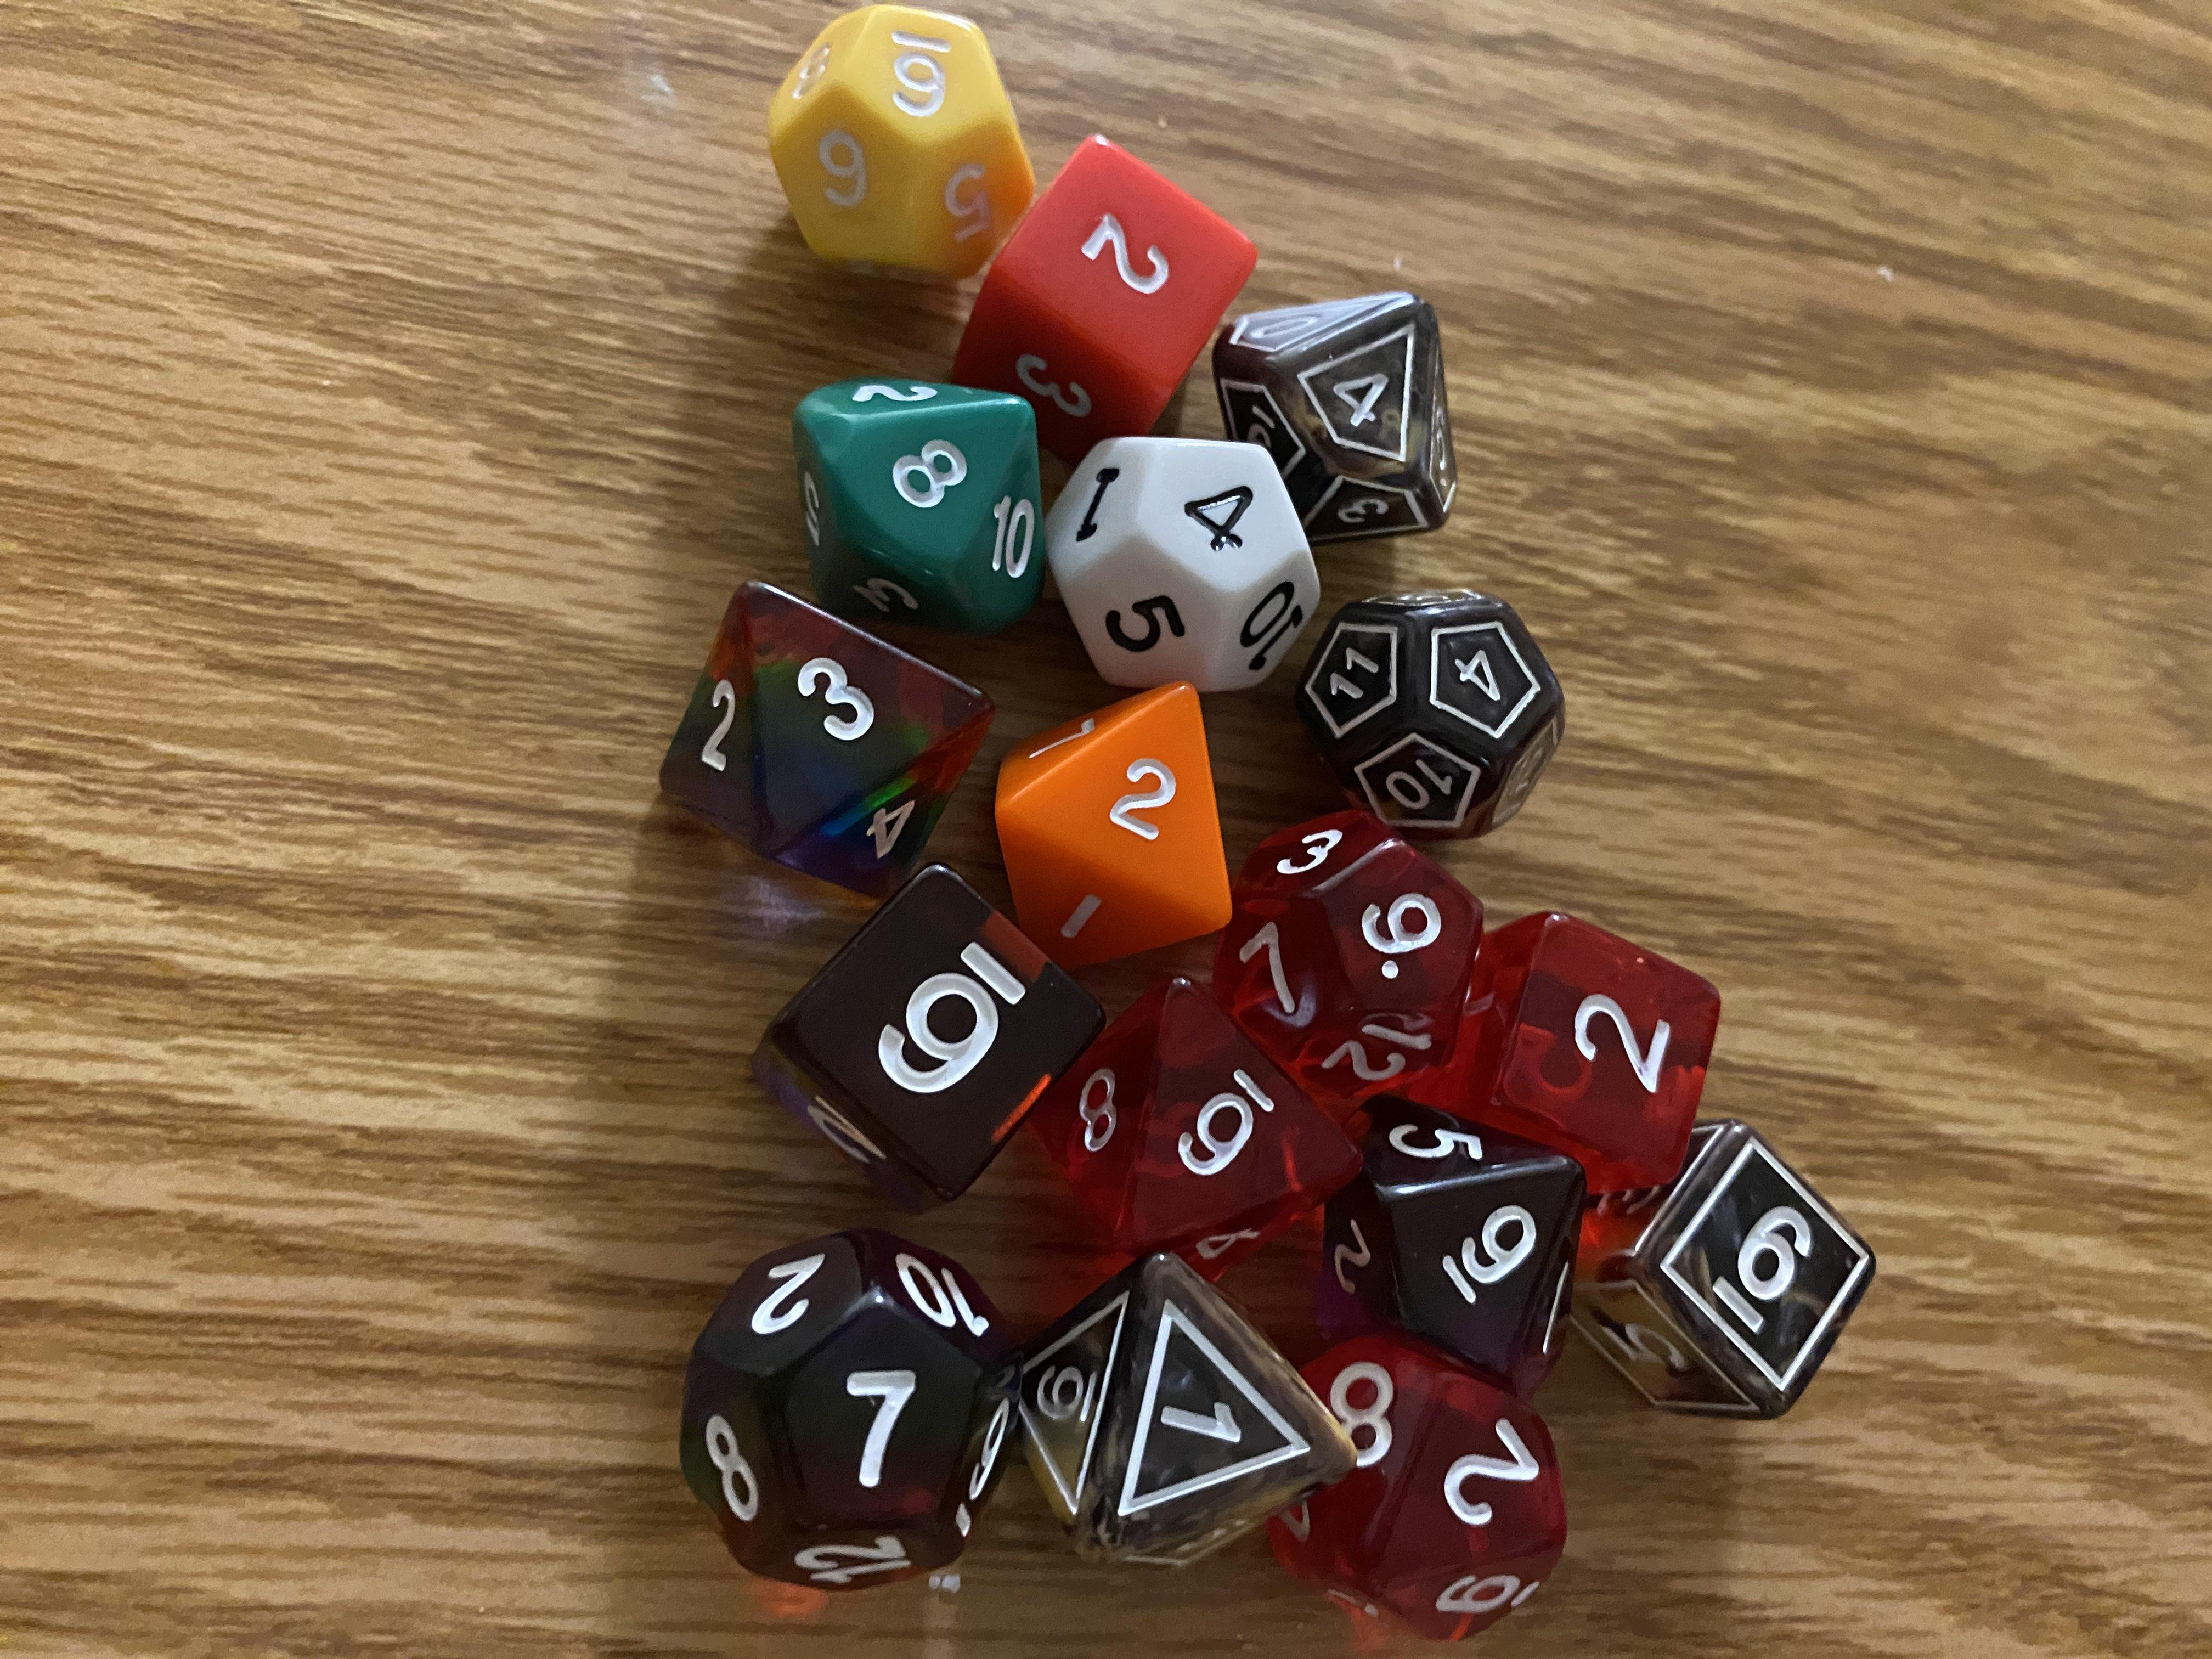eight: (780, 357, 1073, 647)
four: (1031, 396, 1329, 692), (1202, 261, 1493, 565), (1294, 565, 1595, 849)
nine: (1383, 833, 1681, 1136), (1212, 803, 1505, 1112)
one: (995, 1204, 1339, 1629)
seven: (646, 1204, 1054, 1605)
six: (737, 840, 1127, 1206), (1580, 1094, 1895, 1446), (1055, 948, 1372, 1293), (752, 12, 1045, 301)
three: (627, 563, 1008, 884)
two: (1278, 1305, 1629, 1636), (960, 657, 1258, 997), (1447, 880, 1759, 1171), (963, 119, 1261, 415)
